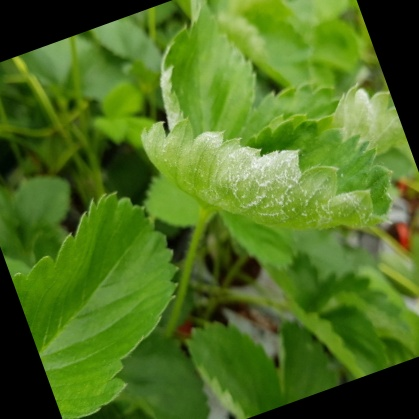Powdery_Leaf: (143, 109, 398, 285), (169, 0, 299, 151), (352, 142, 418, 214)
